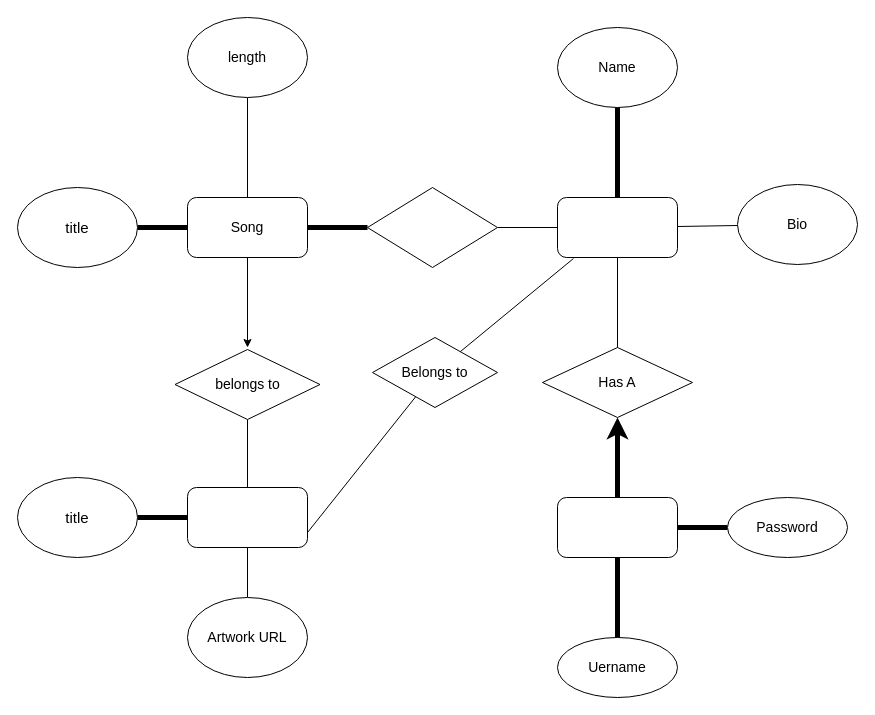
Image size: 875x715. Some labels were removed from this diagram. The box of each missing label's shape, as (x1, y1, x2, y2) in pixels:
Album: (186, 486, 308, 548)
Artist: (556, 196, 678, 258)
User Account: (556, 496, 678, 558)
Written By: (366, 186, 498, 268)
